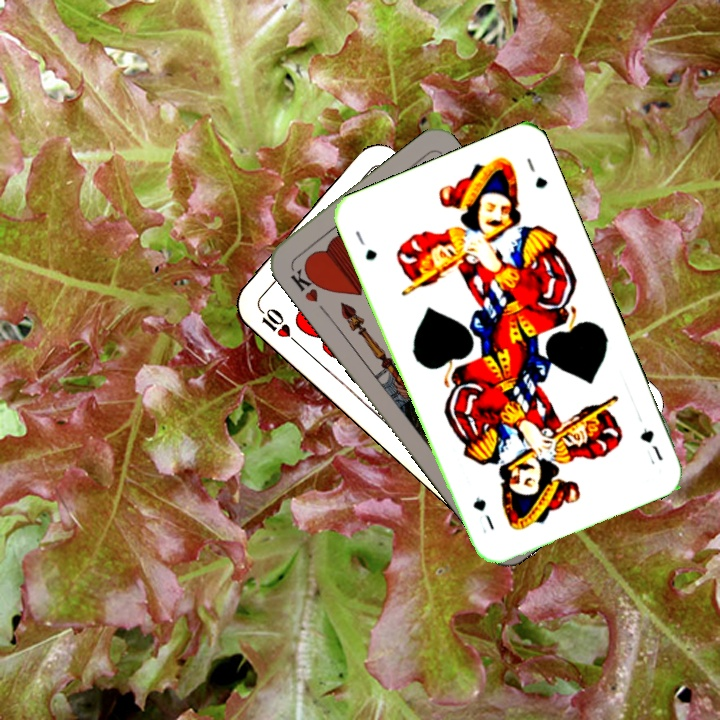GU: (635, 424, 666, 468), (351, 226, 380, 263)
H10: (254, 302, 302, 348)
HK: (286, 261, 326, 305)
